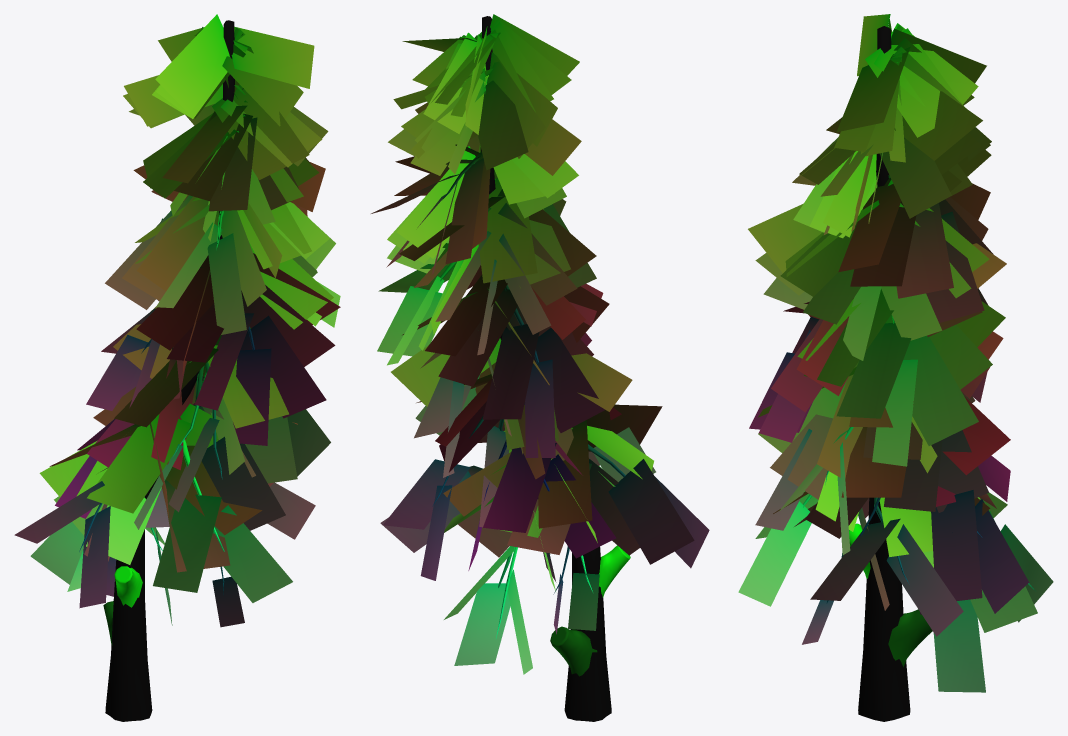
Rendered from M_Pine_3_13.fbx.
3 renders of one model, left to right at view 1: azimuth 30°, elevation 25°; view 2: azimuth 150°, elevation 25°; view 3: azimuth 270°, elevation 25°, orthographic. The views are drawn at different scales.
Parts seen in each view (by area): view 1: Tree_13; view 2: Tree_13; view 3: Tree_13.
Boxes of the visible parts, left/top/right/bottom form: Tree_13: left=14, top=14, right=340, bottom=721; Tree_13: left=371, top=14, right=709, bottom=721; Tree_13: left=738, top=14, right=1053, bottom=721.
Bounding box in the file's own units: 1787 × 3589 × 1377.
